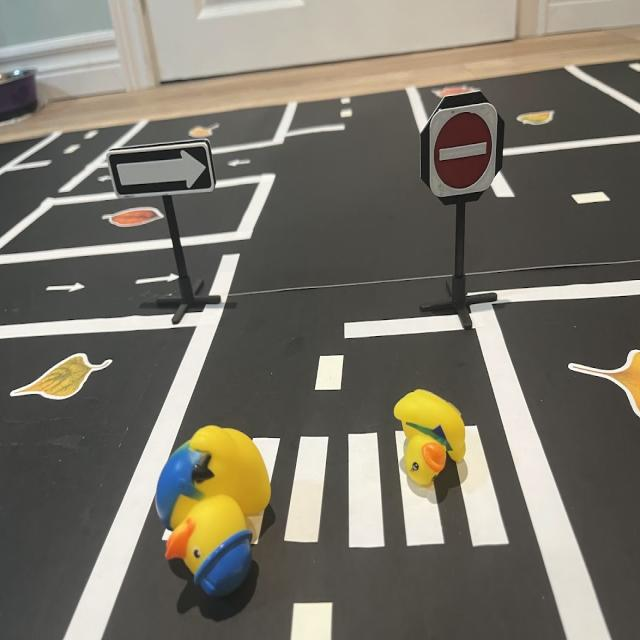duck_regular: (392, 387, 469, 491)
duck_specialty: (158, 424, 276, 617)
road_crosswalk: (254, 432, 513, 555)
road_oneway: (40, 277, 89, 300), (135, 274, 183, 292), (226, 152, 254, 171)
sign_noentry: (428, 107, 498, 197)
sign_oneway_right: (106, 147, 218, 198)
